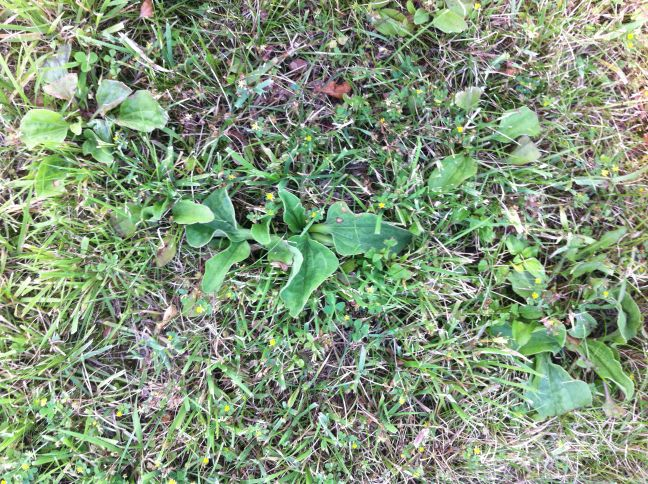weed1: (173, 177, 420, 311), (491, 229, 641, 424), (15, 55, 172, 192), (429, 84, 546, 208)
